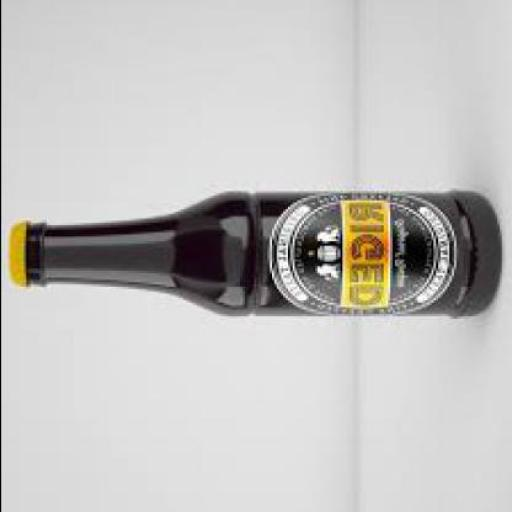glass: (23, 188, 498, 316)
metal: (5, 221, 25, 282)
